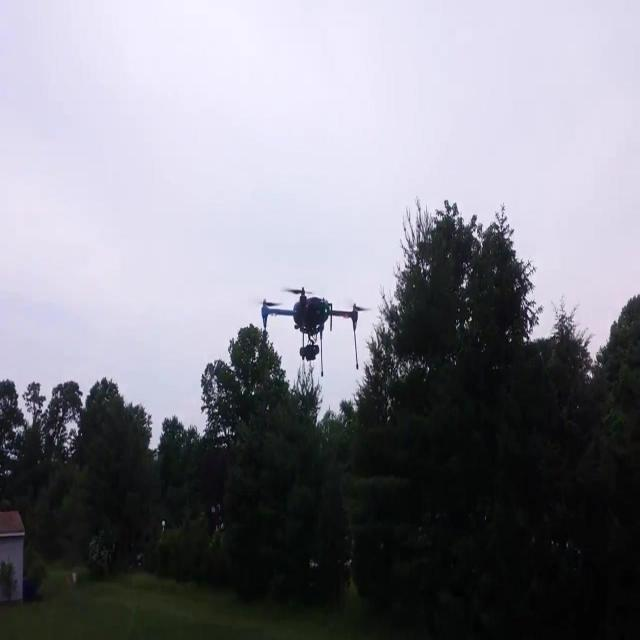UAV: (258, 286, 372, 377)
